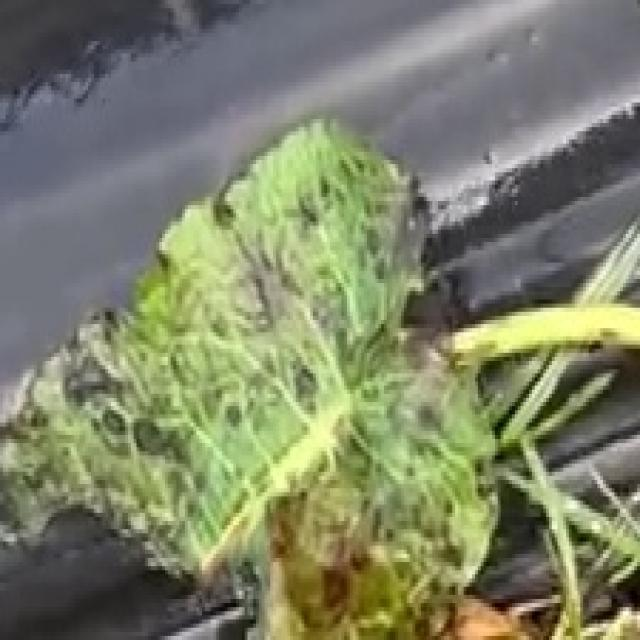organic waste: (1, 102, 640, 626)
